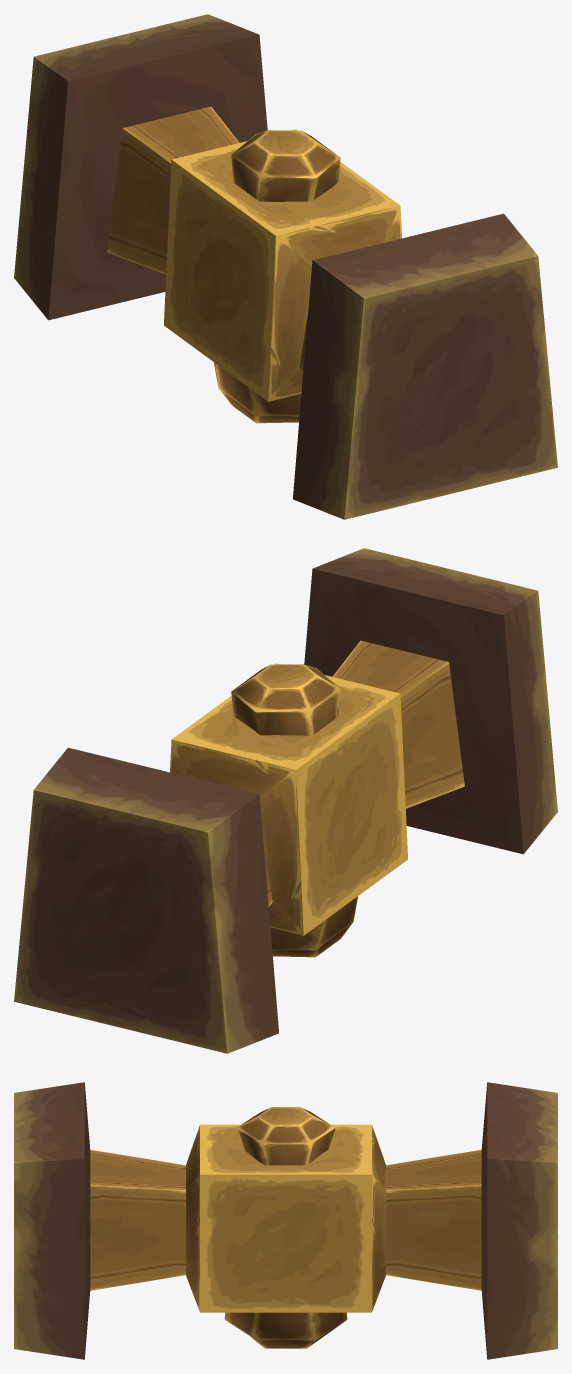
Rendered from SM_WEP_head_hammer_battle_23.fbx.
3 views of the same model, one above another, from view 1: azimuth 30°, elevation 25°; view 2: azimuth 150°, elevation 25°; view 3: azimuth 270°, elevation 25° (orthographic). The views are drawn at different scales.
Visible parts, largest first — view 1: SM_WEP_head_hammer_battle_23; view 2: SM_WEP_head_hammer_battle_23; view 3: SM_WEP_head_hammer_battle_23.
Part boxes in pixels (x1=…): SM_WEP_head_hammer_battle_23: x1=14, y1=14, x2=557, y2=519; SM_WEP_head_hammer_battle_23: x1=14, y1=548, x2=557, y2=1053; SM_WEP_head_hammer_battle_23: x1=14, y1=1082, x2=557, y2=1359.
Bounding box in the file's own units: 17.73 × 19.15 × 43.95.
